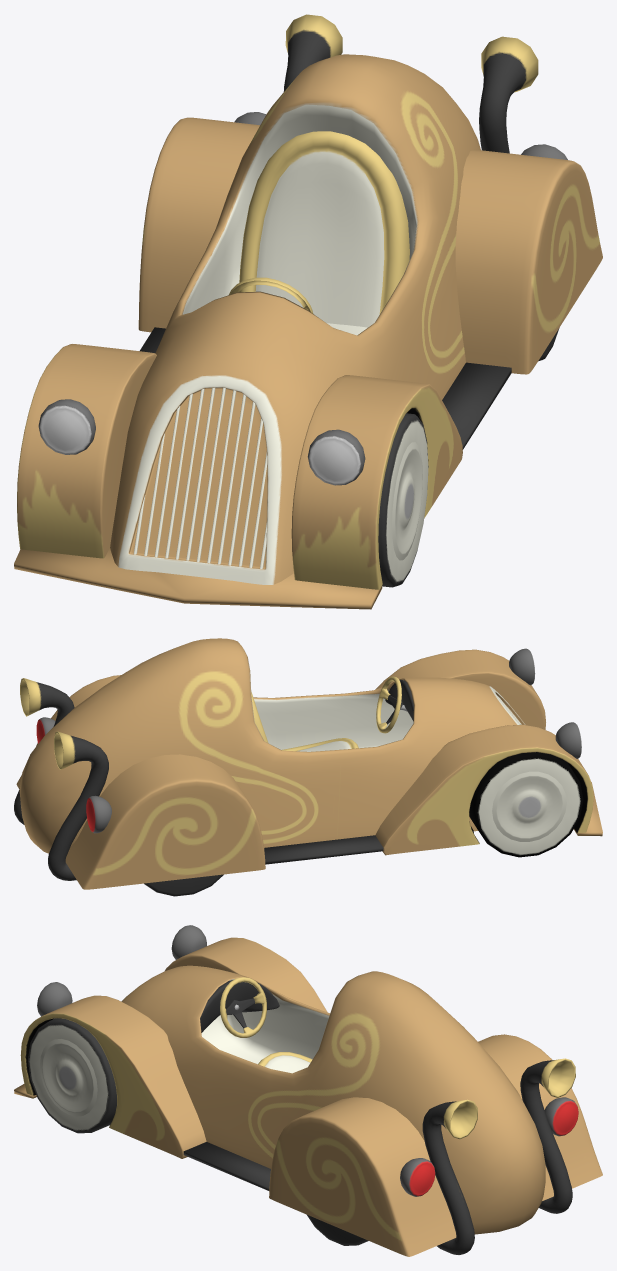
File: Keong_CarScalePose.fbx
3 renders of one model, top to bottom at view 1: azimuth 30°, elevation 25°; view 2: azimuth 150°, elevation 25°; view 3: azimuth 270°, elevation 25°, orthographic. The views are drawn at different scales.
Visible parts, largest first — view 1: Cube.014; view 2: Cube.014; view 3: Cube.014.
Boxes of the visible parts, x1=… form: Cube.014: x1=14, y1=14, x2=602, y2=609; Cube.014: x1=14, y1=638, x2=602, y2=896; Cube.014: x1=14, y1=925, x2=602, y2=1256.
Size of the model in its own units: 2545 by 2545 by 985.
